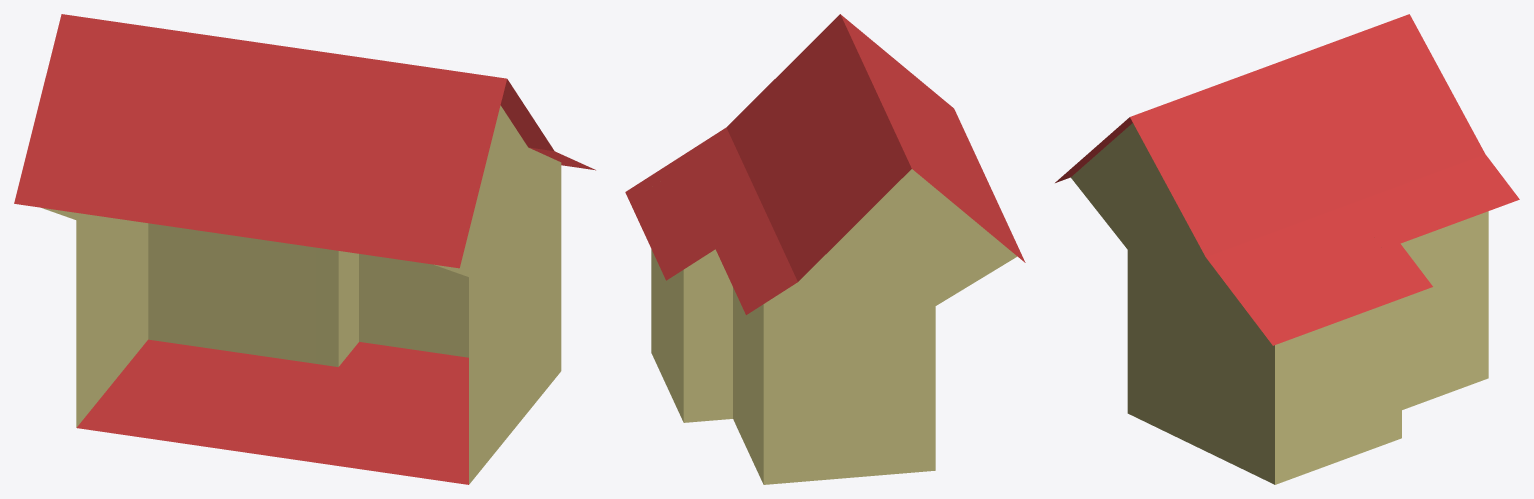
3 views of the same model, side by side, from view 1: azimuth 30°, elevation 25°; view 2: azimuth 150°, elevation 25°; view 3: azimuth 270°, elevation 25° (orthographic). The views are drawn at different scales.
Bounding box in the file's own units: 16.81 × 15.82 × 11.68.
